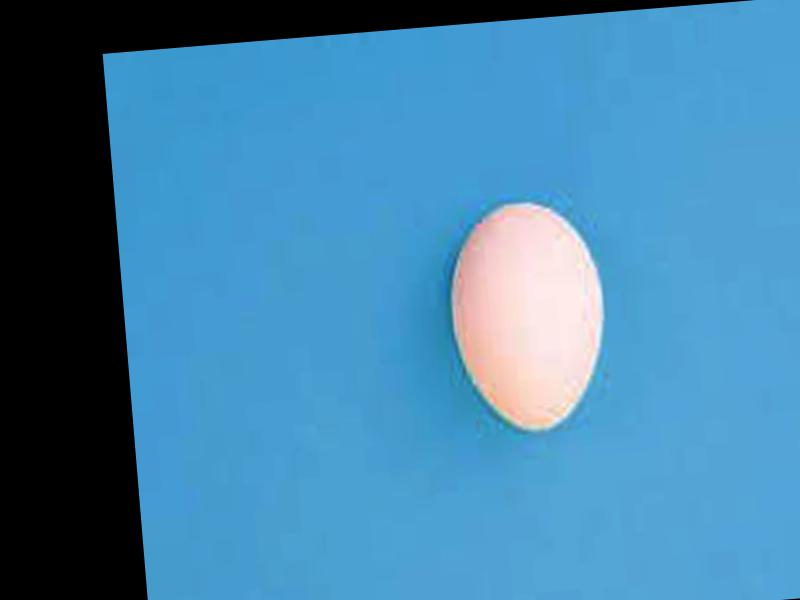Eggs: (441, 196, 611, 441)
